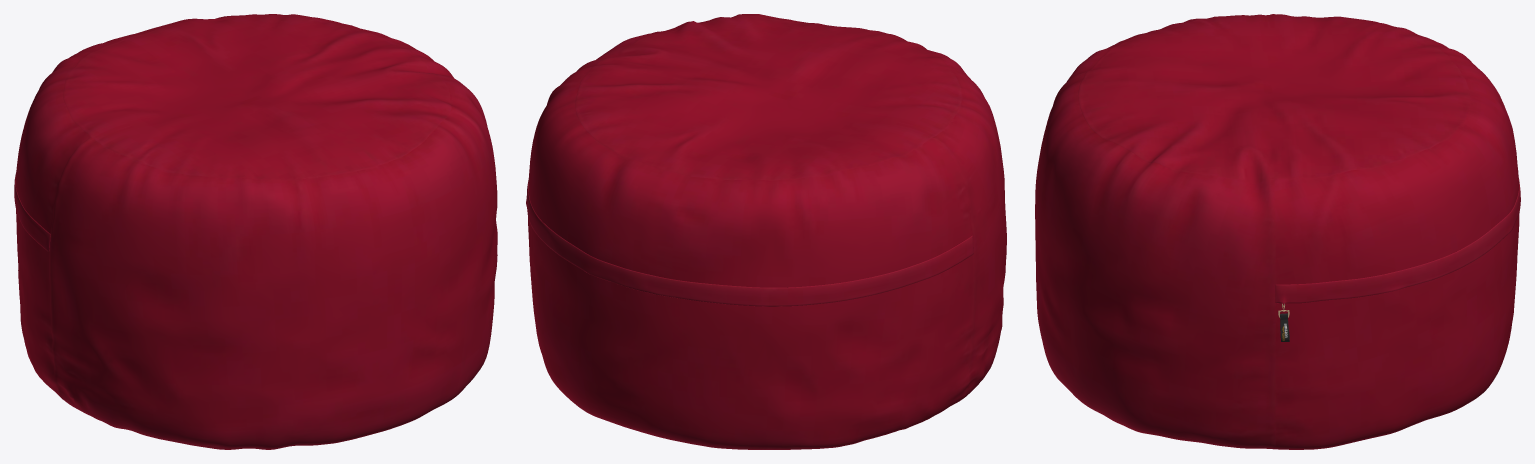
The model's file is abo-B07TN1YBXZ.glb.
3 renders of one model, left to right at view 1: azimuth 30°, elevation 25°; view 2: azimuth 150°, elevation 25°; view 3: azimuth 270°, elevation 25°, orthographic.
Bounding box in the file's own units: 1.22 × 0.762 × 1.22.
Materials: 1 (1 with a texture image).
